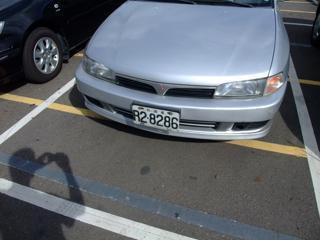plate: (131, 103, 181, 132)
